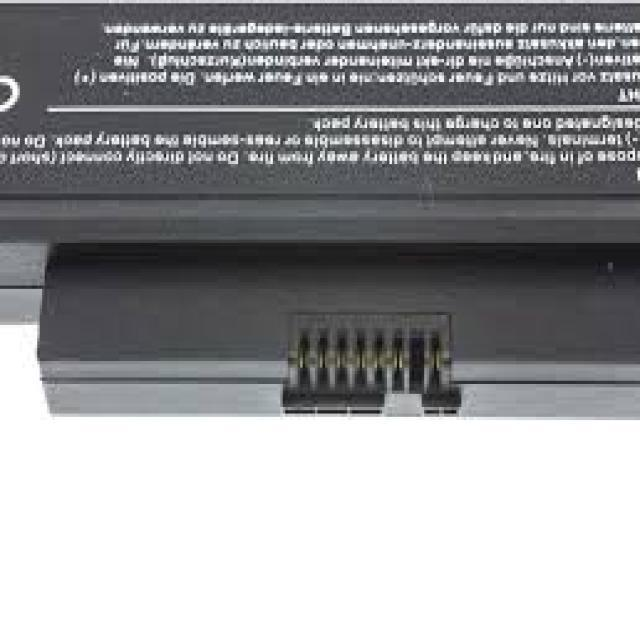Battery: (19, 214, 640, 474)
